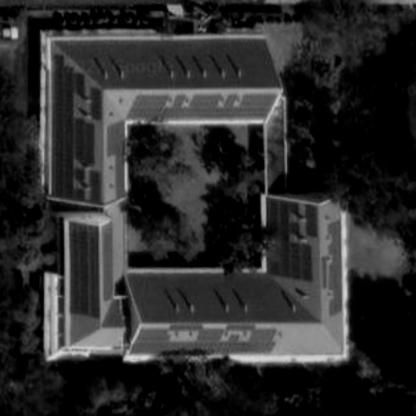solar-pv-panel: (51, 55, 97, 203), (266, 198, 316, 279), (127, 94, 278, 120), (131, 329, 278, 354), (68, 221, 101, 319), (107, 121, 127, 196), (328, 221, 342, 316), (102, 222, 114, 303)
